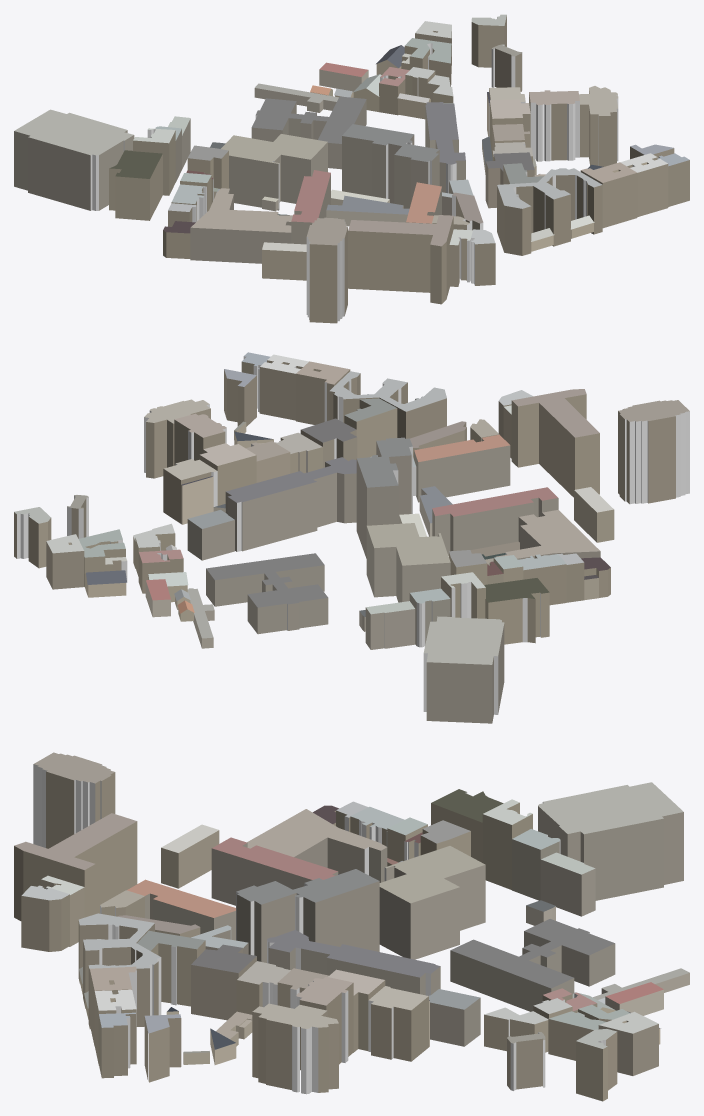
3 renders of one model, top to bottom at view 1: azimuth 30°, elevation 25°; view 2: azimuth 150°, elevation 25°; view 3: azimuth 270°, elevation 25°, orthographic. The views are drawn at different scales.
Parts seen in each view (by area): view 1: tuile; view 2: tuile; view 3: tuile.
Part boxes in pixels (x1,y1,x2,y2): tuile: (14, 14, 689, 323); tuile: (14, 352, 689, 723); tuile: (14, 752, 689, 1101).
Bounding box in the file's own units: 278 × 59.49 × 277.
